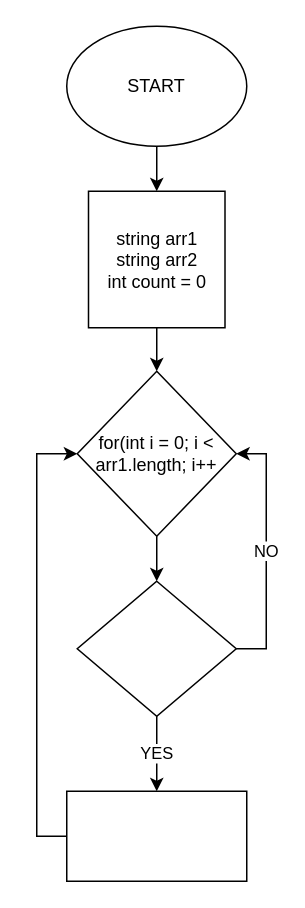
This 305x908 diagram has some shape labels left out. Here are the shapes that lost their labels. From the top down, the box of each, then its label:
(76, 580, 236, 716): if(arr1[i].length < 3
(65, 790, 247, 881): arr2[count] = arr1[i] count++
